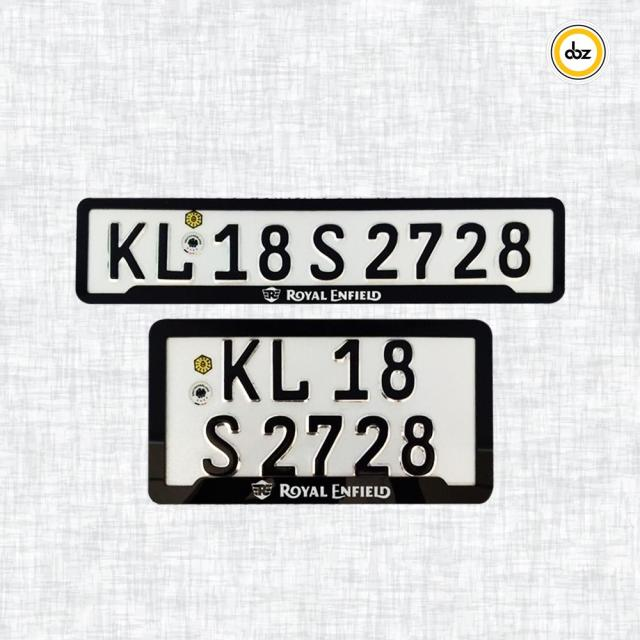license_plate: (159, 328, 487, 498), (84, 203, 562, 300)
